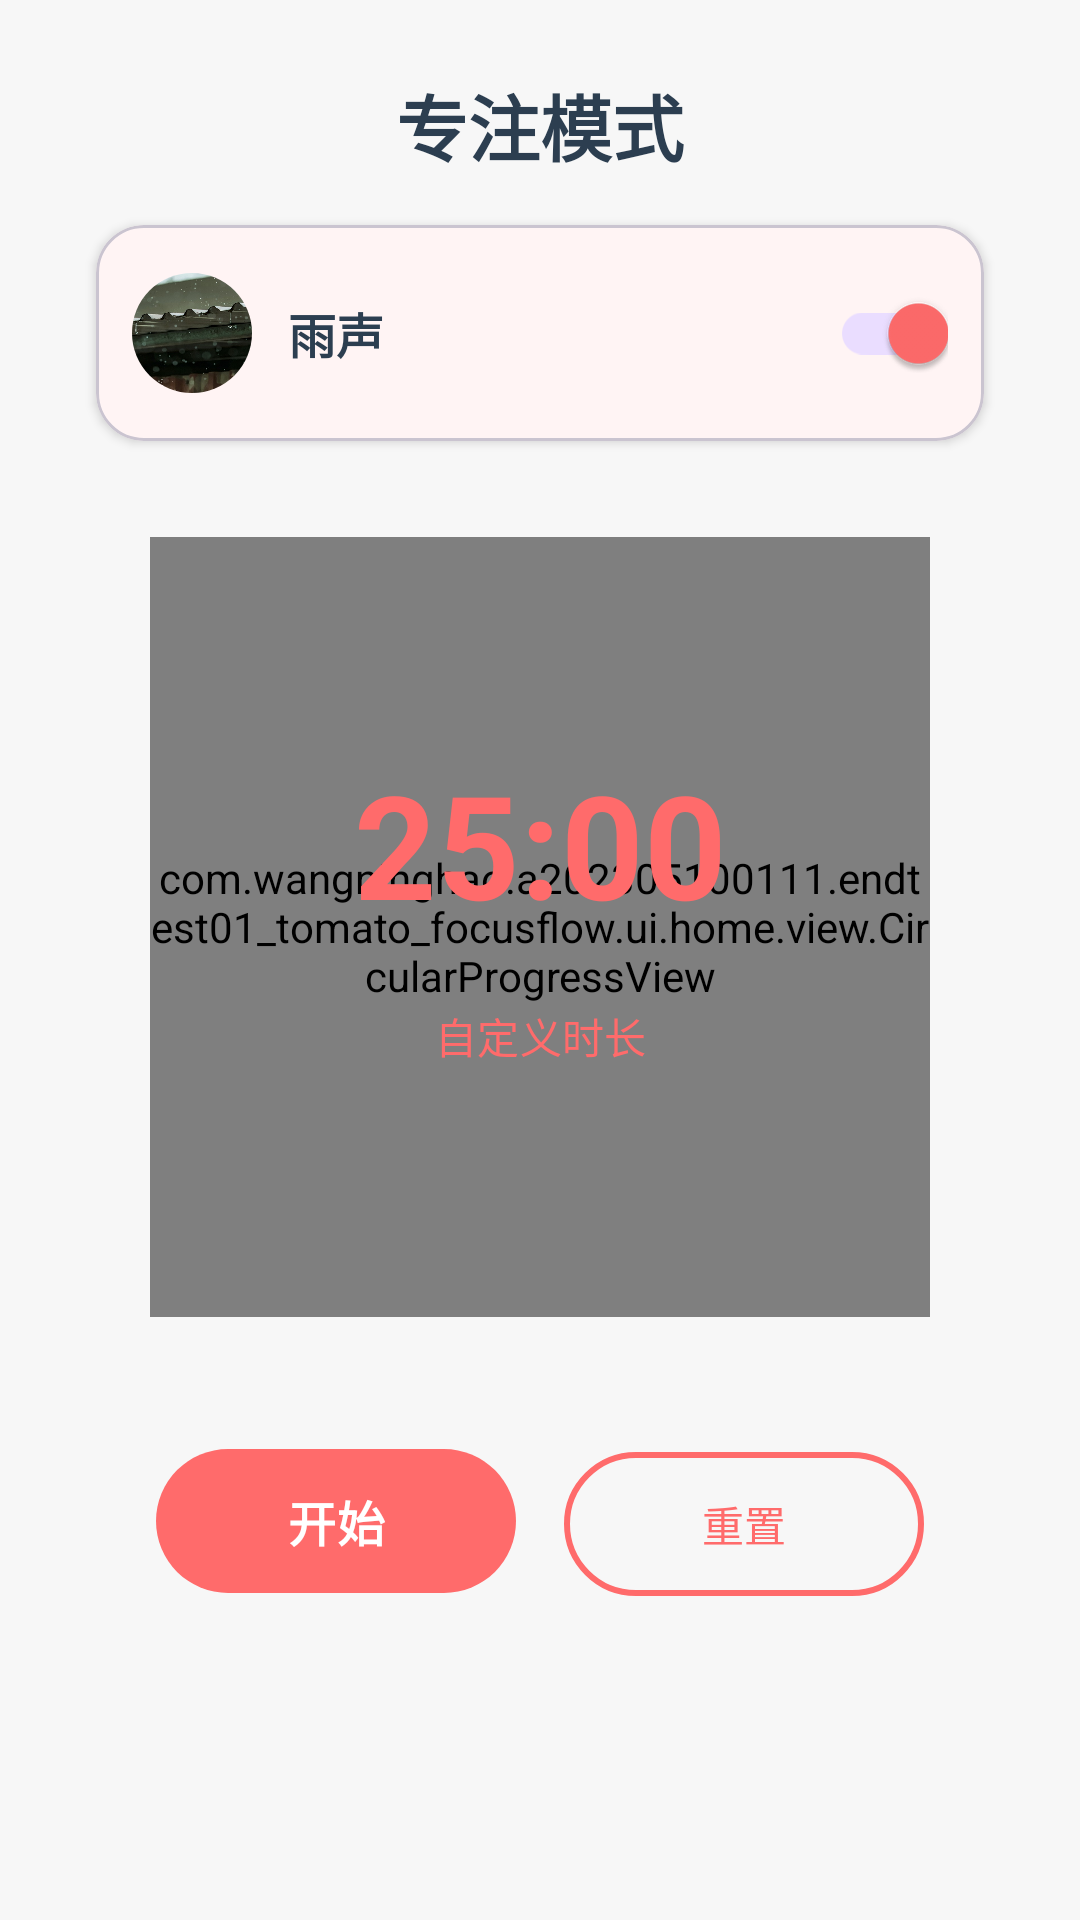

Screen size 1080w x 1920h. Icon name, then its box in pixels as (x1, y1, x2, y2):
白噪音: (132, 273, 252, 393)
